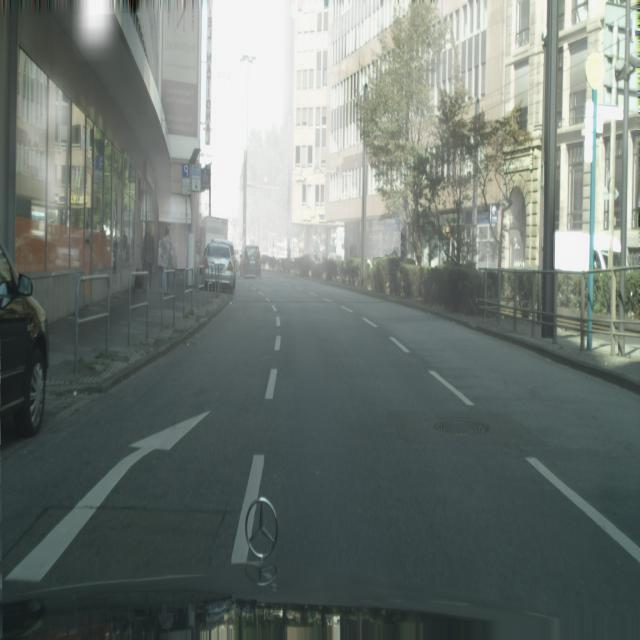person: (158, 222, 174, 296), (142, 222, 156, 292)
truck: (0, 239, 49, 438), (202, 239, 236, 294), (240, 245, 261, 279)
